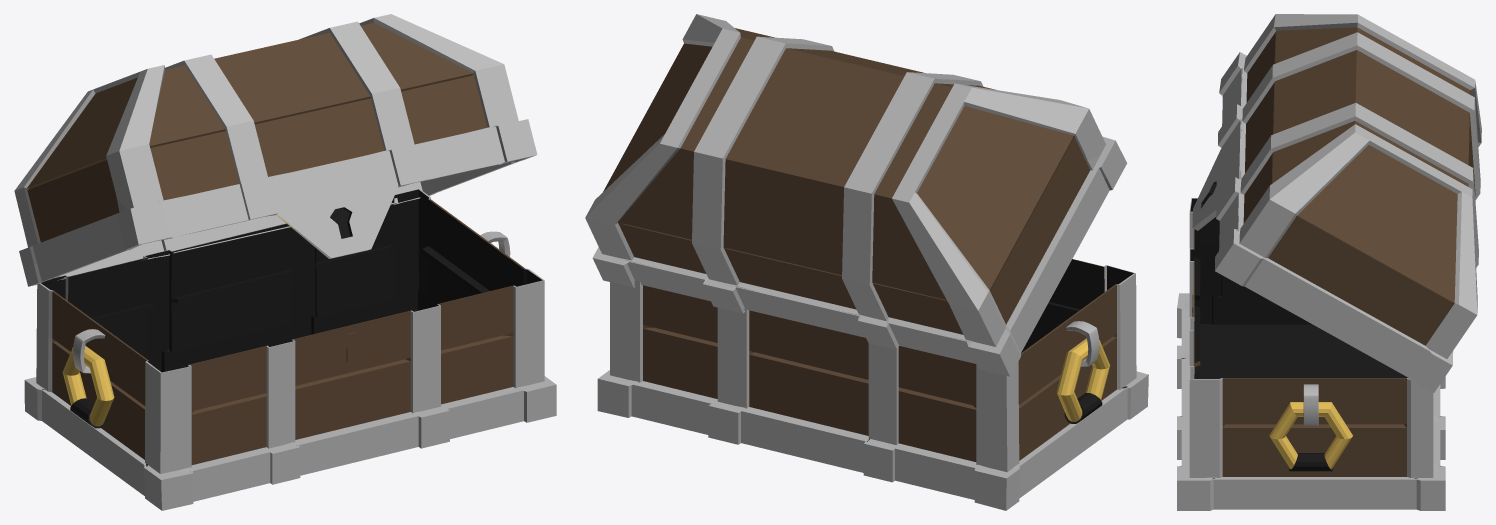
Rendered from Cofre_animacion.fbx.
The picture shows the model from 3 angles, left to right: view 1: azimuth 30°, elevation 25°; view 2: azimuth 150°, elevation 25°; view 3: azimuth 270°, elevation 25°; orthographic projection. The views are drawn at different scales.
Visible parts, largest first — view 1: Cube, Cube.003, Torus.002, Cube.001; view 2: Cube.003, Cube, Torus.002, Cube.001; view 3: Cube.003, Cube, Torus.001, Cube.002.
Part boxes in pixels (box(x1,y1,x2,y2)): Cube: box(24, 188, 556, 510); Cube.003: box(14, 14, 537, 286); Torus.002: box(62, 346, 114, 428); Cube.001: box(72, 329, 105, 373); Cube.003: box(585, 14, 1127, 376); Cube: box(597, 259, 1148, 510); Torus.002: box(1056, 338, 1110, 423); Cube.001: box(1066, 321, 1099, 366); Cube.003: box(1192, 14, 1481, 392); Cube: box(1177, 198, 1445, 510); Torus.001: box(1269, 402, 1352, 471); Cube.002: box(1303, 384, 1318, 426).
Size of the model in its own units: 299 by 237 by 189.
